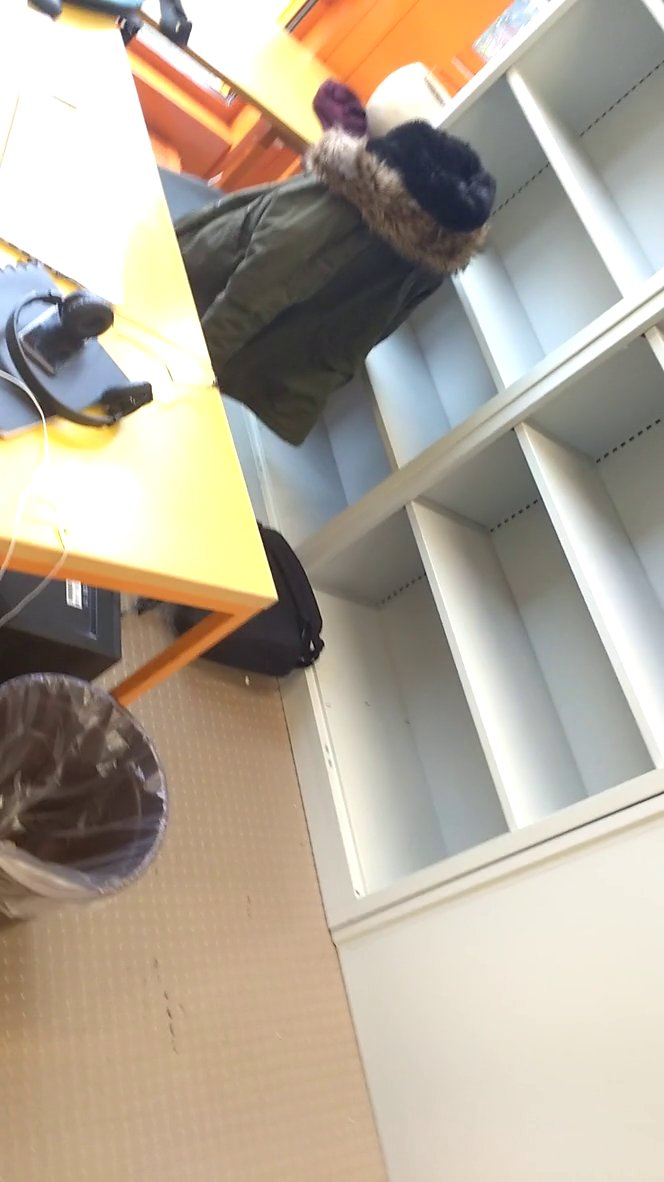bag: (170, 503, 331, 687)
bin: (1, 661, 176, 946)
